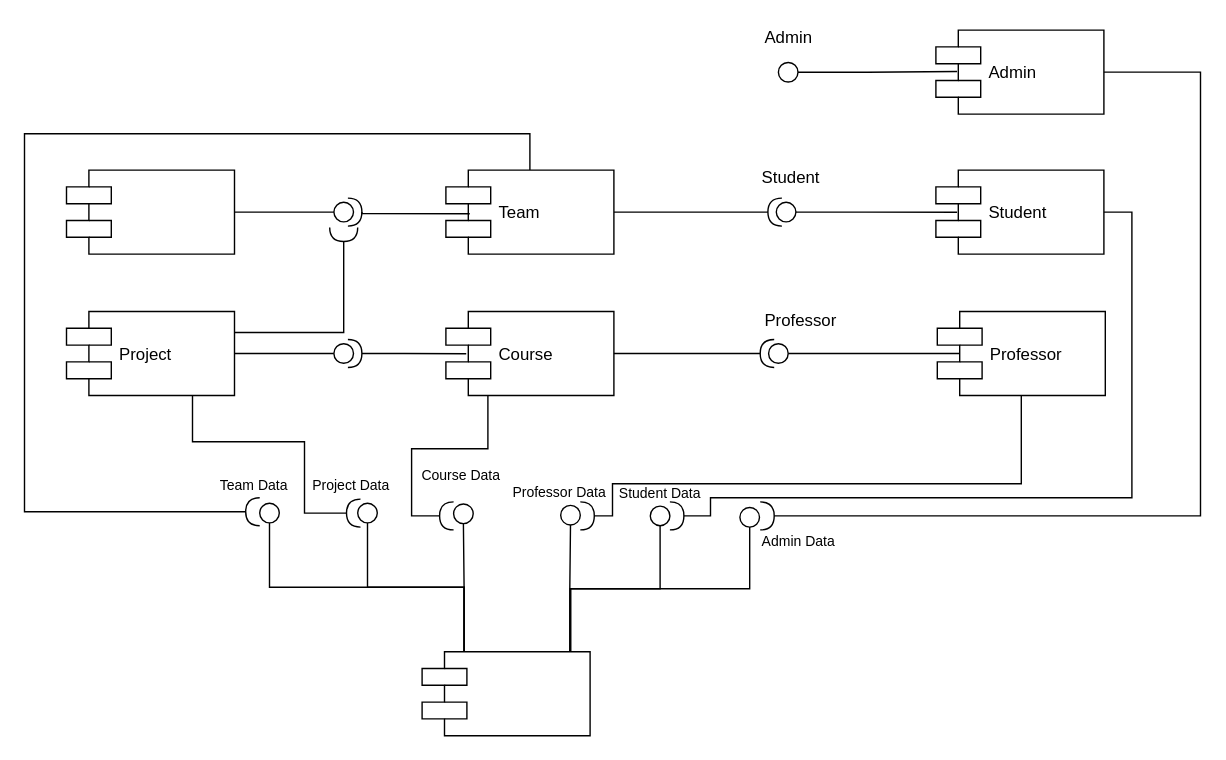
Image size: 1226x760. Some labels were removed from this diagram. Each missing label, with the centre of its shape:
"Database" goes at [505,693].
"ProjectFile" goes at [149,211].
